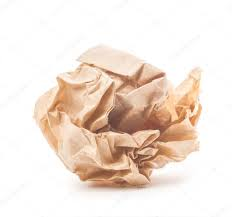crumpled paper: (30, 42, 209, 194)
